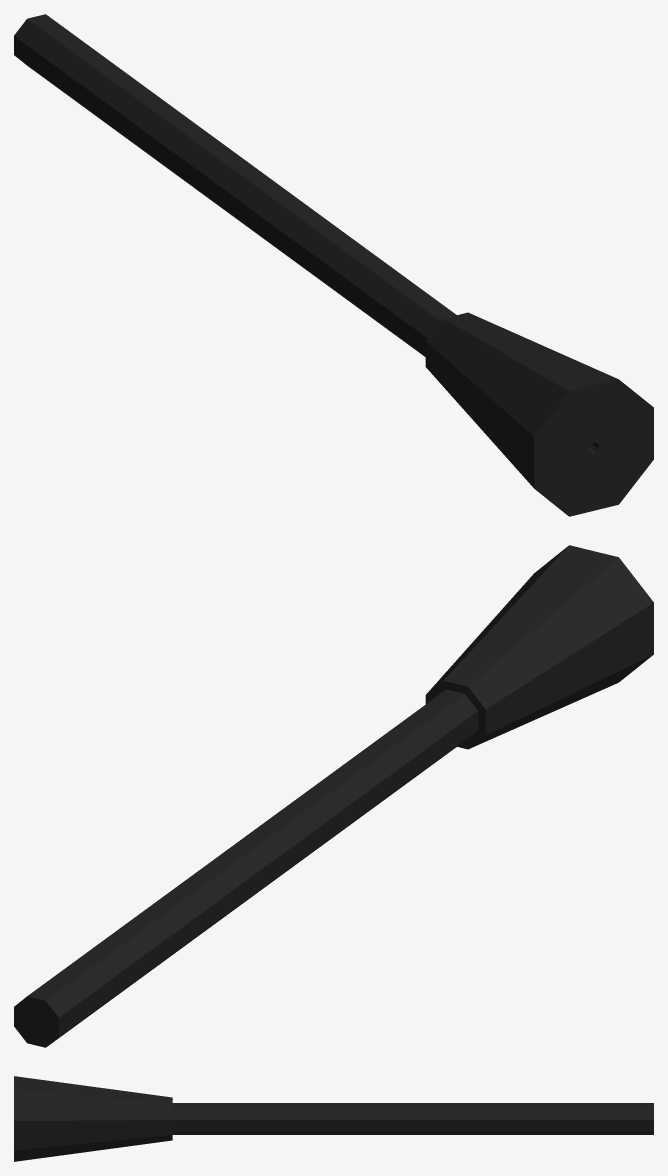
Rendered from fire_extingiusher_nozzle.gltf.
3 views of the same model, one above another, from view 1: azimuth 30°, elevation 25°; view 2: azimuth 150°, elevation 25°; view 3: azimuth 270°, elevation 25° (orthographic). The views are drawn at different scales.
Visible parts, largest first — view 1: cylinder, tube; view 2: cylinder, tube; view 3: cylinder, tube.
Boxes of the visible parts, x1,y1,x2,y2 form: cylinder: [14, 14, 456, 356]; tube: [425, 312, 653, 516]; cylinder: [14, 689, 478, 1047]; tube: [425, 545, 653, 749]; cylinder: [172, 1103, 653, 1134]; tube: [14, 1076, 172, 1161].
Bounding box in the file's own units: 0.25 × 0.25 × 2.02.
1 material, 1 textured.
